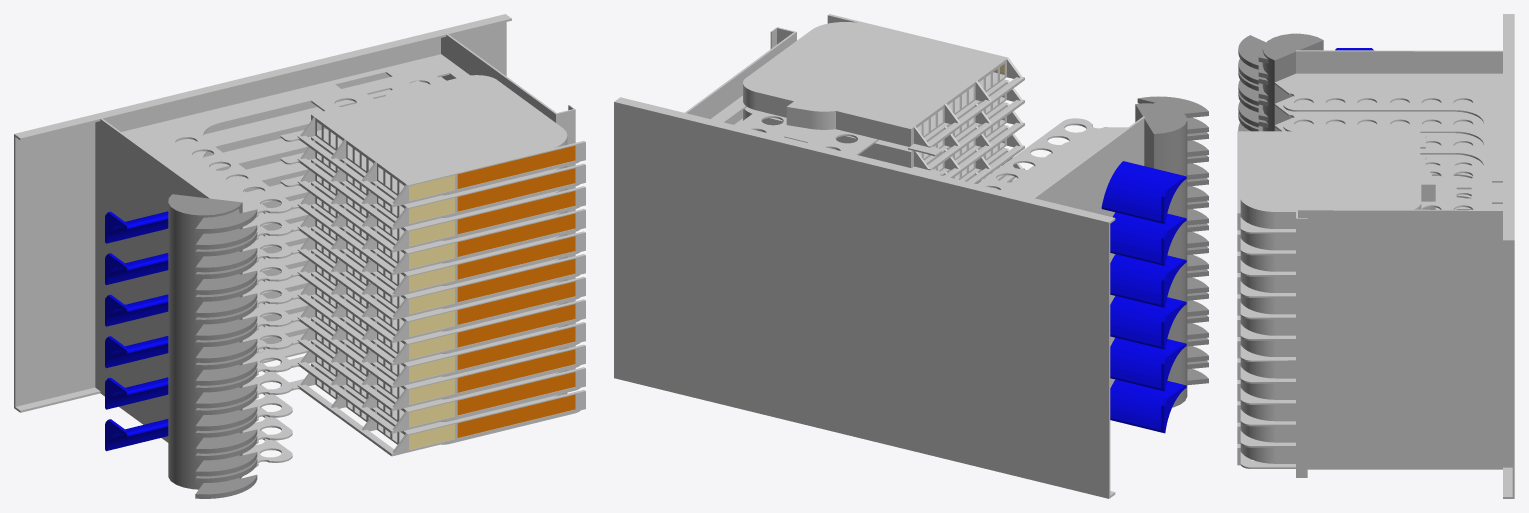
Rendered from Chassis-LISA-6U-R.glb.
The picture shows the model from 3 angles, left to right: view 1: azimuth 30°, elevation 25°; view 2: azimuth 150°, elevation 25°; view 3: azimuth 270°, elevation 25°; orthographic projection. The views are drawn at different scales.
Parts seen in each view (by area): view 1: Geom3D (×49), Geom3D_ (×34); view 2: Geom3D_ (×12), Geom3D (×5); view 3: Geom3D_ (×10), Geom3D (×24).
Boxes of the visible parts, box(x1,y1,x2,y2) form: Geom3D (×49): box(15, 18, 585, 467); Geom3D_ (×34): box(14, 14, 575, 498); Geom3D_ (×12): box(614, 27, 1208, 498); Geom3D (×5): box(711, 14, 1127, 197); Geom3D_ (×10): box(1238, 14, 1514, 498); Geom3D (×24): box(1237, 73, 1502, 468).
Bounding box in the file's own units: 0.5 × 0.2673 × 0.2592.
